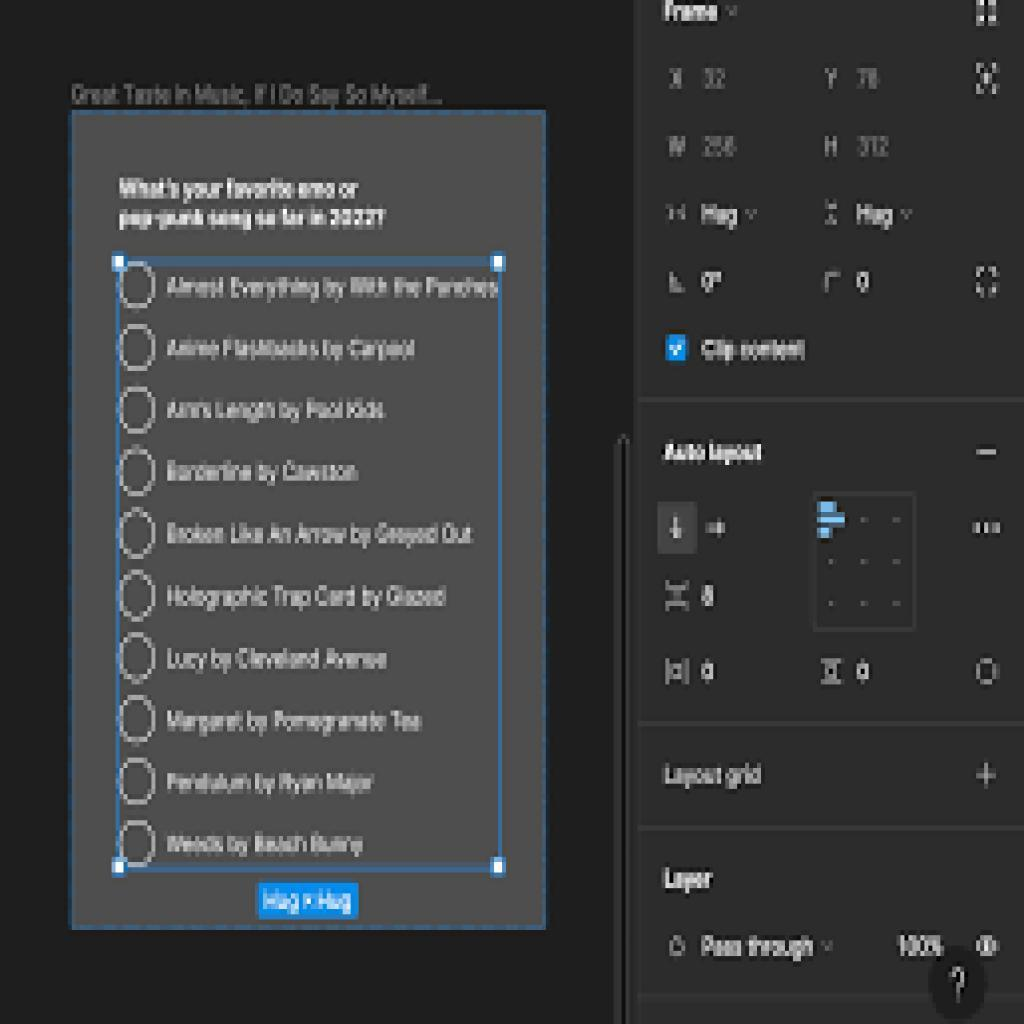button: (258, 883, 360, 923)
checkbox: (665, 335, 690, 365)
icon: (930, 950, 990, 1024), (660, 504, 704, 557), (662, 575, 696, 620), (974, 55, 1004, 106), (974, 760, 1008, 800), (661, 652, 696, 690), (974, 262, 1006, 301), (665, 262, 693, 303), (817, 655, 848, 692), (975, 1, 1008, 32)
label: (165, 263, 500, 309), (163, 576, 457, 614), (167, 326, 428, 368), (165, 523, 481, 553), (163, 766, 382, 806), (165, 645, 396, 681), (163, 709, 430, 740), (168, 454, 361, 492), (165, 397, 405, 426), (164, 833, 367, 861), (703, 334, 814, 366)
radio: (117, 320, 161, 380), (117, 254, 159, 314), (118, 447, 166, 499), (119, 385, 162, 438), (119, 569, 158, 625), (118, 758, 159, 808), (120, 633, 157, 687), (118, 510, 157, 560), (122, 694, 156, 749), (119, 824, 158, 870)
